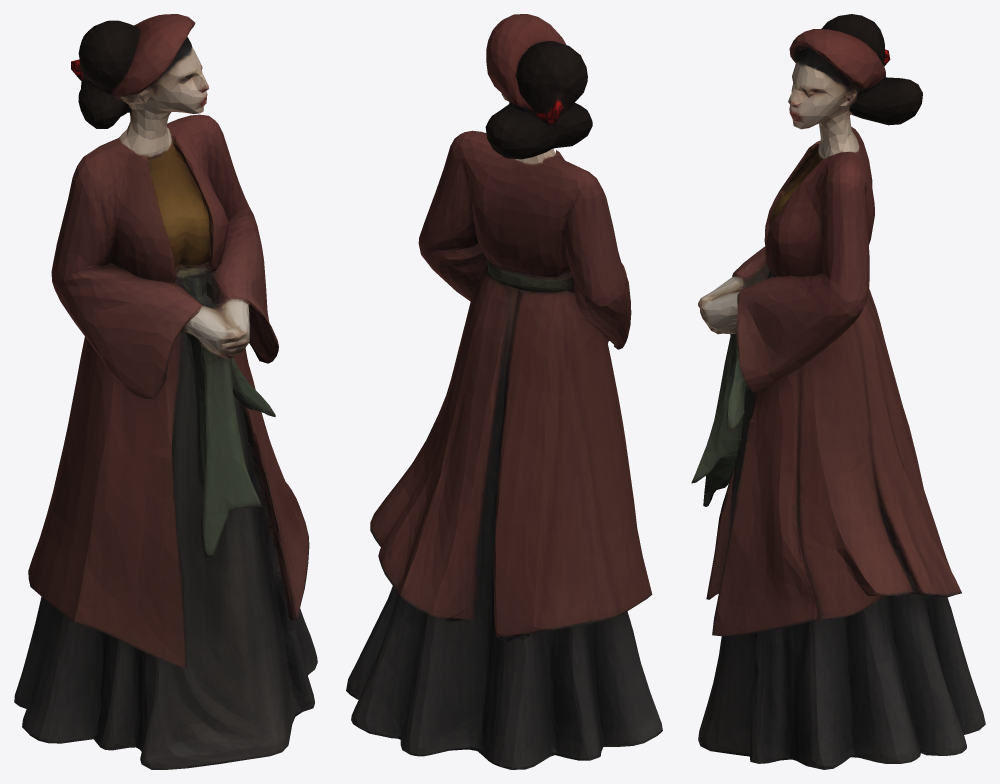
The model's file is nguoicogainamxuong.glb.
The picture shows the model from 3 angles, left to right: view 1: azimuth 30°, elevation 25°; view 2: azimuth 150°, elevation 25°; view 3: azimuth 270°, elevation 25°; orthographic projection.
Visible parts, largest first — view 1: world; view 2: world; view 3: world.
Part boxes in pixels (x1,y1,x2,y2): world: (14,14,317,769); world: (346,14,662,769); world: (691,14,985,769).
Bounding box in the file's own units: 0.4232 × 0.9995 × 0.3869.
Materials: 1 (1 with a texture image).
